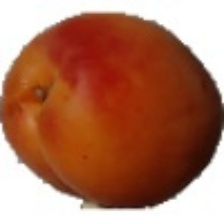apricot: (35, 19, 182, 207)
